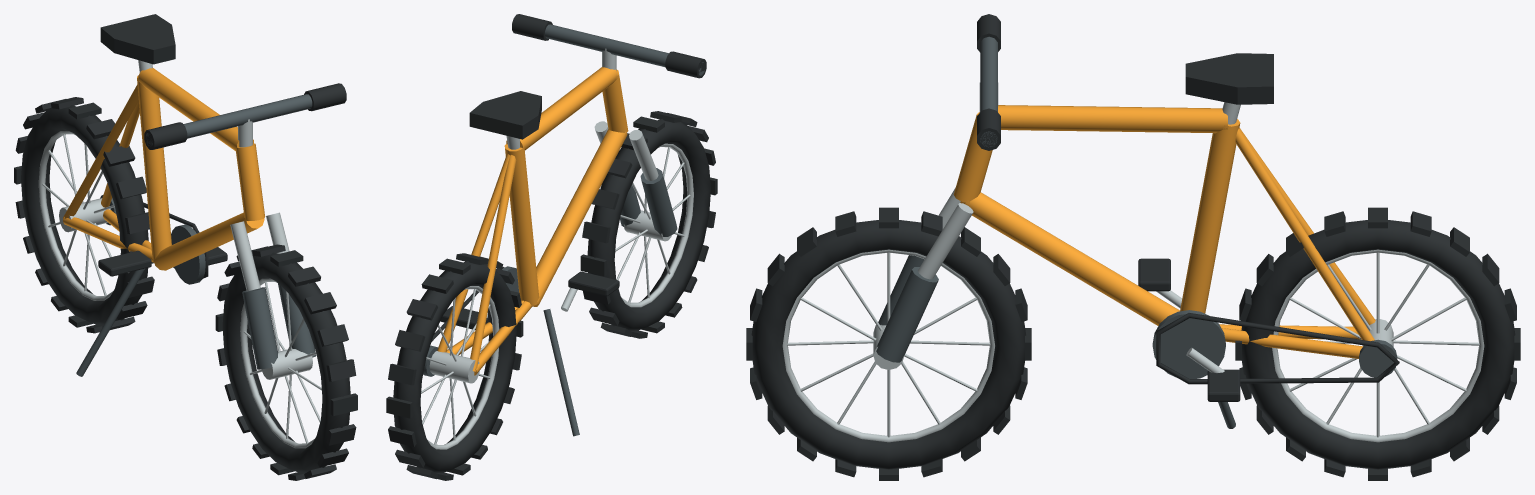
Rendered from bicycle_mountain.glb.
The picture shows the model from 3 angles, left to right: view 1: azimuth 30°, elevation 25°; view 2: azimuth 150°, elevation 25°; view 3: azimuth 270°, elevation 25°; orthographic projection. The views are drawn at different scales.
Parts seen in each view (by area): view 1: Mountain_Bicycle_Front_Tire, Mountain_Bicycle_Rear_Tire, Mountain_Bicycle_Seat_Tube, Mountain_Bicycle_Saddle, Mountain_Bicycle_Top_Tube, Mountain_Bicycle_Wide_Handlebar, Mountain_Bicycle_Down_Tube, Mountain_Bicycle_Suspension_Lower_-1, Mountain_Bicycle_Head_Tube, Mountain_Bicycle_Rear_Rim, Mountain_Bicycle_Seat_Stay_-1, Mountain_Bicycle_Front_Rim (+25 smaller); view 2: Mountain_Bicycle_Rear_Tire, Mountain_Bicycle_Front_Tire, Mountain_Bicycle_Down_Tube, Mountain_Bicycle_Seat_Tube, Mountain_Bicycle_Saddle, Mountain_Bicycle_Top_Tube, Mountain_Bicycle_Seat_Stay_-1, Mountain_Bicycle_Wide_Handlebar, Mountain_Bicycle_Seat_Stay_1, Mountain_Bicycle_Suspension_Lower_-1, Mountain_Bicycle_Front_Rim, Mountain_Bicycle_Rear_Rim (+22 smaller); view 3: Mountain_Bicycle_Front_Tire, Mountain_Bicycle_Rear_Tire, Mountain_Bicycle_Top_Tube, Mountain_Bicycle_Down_Tube, Mountain_Bicycle_Seat_Tube, Mountain_Bicycle_Saddle, Mountain_Bicycle_Front_Rim, Mountain_Bicycle_Chainring, Mountain_Bicycle_Rear_Rim, Mountain_Bicycle_Chain, Mountain_Bicycle_Seat_Stay_1, Mountain_Bicycle_Suspension_Lower_1 (+9 smaller).
Part boxes in pixels (bbox=[...]): Mountain_Bicycle_Front_Tire: bbox=[222, 252, 350, 472]; Mountain_Bicycle_Rear_Tire: bbox=[21, 105, 148, 325]; Mountain_Bicycle_Seat_Tube: bbox=[137, 76, 171, 262]; Mountain_Bicycle_Saddle: bbox=[100, 14, 175, 64]; Mountain_Bicycle_Top_Tube: bbox=[138, 68, 253, 151]; Mountain_Bicycle_Wide_Handlebar: bbox=[146, 94, 312, 146]; Mountain_Bicycle_Down_Tube: bbox=[153, 212, 264, 270]; Mountain_Bicycle_Suspension_Lower_-1: bbox=[242, 287, 278, 369]; Mountain_Bicycle_Head_Tube: bbox=[235, 143, 265, 220]; Mountain_Bicycle_Rear_Rim: bbox=[38, 131, 114, 300]; Mountain_Bicycle_Seat_Stay_-1: bbox=[63, 85, 138, 218]; Mountain_Bicycle_Front_Rim: bbox=[240, 278, 315, 448]; Mountain_Bicycle_Rear_Tire: bbox=[393, 261, 516, 473]; Mountain_Bicycle_Front_Tire: bbox=[587, 119, 710, 330]; Mountain_Bicycle_Down_Tube: bbox=[532, 129, 627, 306]; Mountain_Bicycle_Seat_Tube: bbox=[504, 144, 539, 305]; Mountain_Bicycle_Saddle: bbox=[469, 91, 541, 139]; Mountain_Bicycle_Top_Tube: bbox=[506, 67, 617, 150]; Mountain_Bicycle_Seat_Stay_-1: bbox=[470, 155, 516, 371]; Mountain_Bicycle_Wide_Handlebar: bbox=[545, 24, 704, 75]; Mountain_Bicycle_Seat_Stay_1: bbox=[437, 154, 509, 352]; Mountain_Bicycle_Suspension_Lower_-1: bbox=[640, 168, 677, 236]; Mountain_Bicycle_Front_Rim: bbox=[622, 143, 693, 307]; Mountain_Bicycle_Rear_Rim: bbox=[426, 286, 499, 449]; Mountain_Bicycle_Front_Tire: bbox=[751, 220, 1025, 469]; Mountain_Bicycle_Rear_Tire: bbox=[1241, 220, 1515, 469]; Mountain_Bicycle_Top_Tube: bbox=[998, 105, 1227, 133]; Mountain_Bicycle_Down_Tube: bbox=[960, 192, 1179, 325]; Mountain_Bicycle_Seat_Tube: bbox=[1180, 119, 1240, 313]; Mountain_Bicycle_Saddle: bbox=[1185, 53, 1273, 104]; Mountain_Bicycle_Front_Rim: bbox=[782, 249, 994, 442]; Mountain_Bicycle_Chainring: bbox=[1152, 310, 1225, 378]; Mountain_Bicycle_Rear_Rim: bbox=[1272, 249, 1484, 442]; Mountain_Bicycle_Chain: bbox=[1156, 313, 1399, 384]; Mountain_Bicycle_Seat_Stay_1: bbox=[1235, 128, 1374, 341]; Mountain_Bicycle_Suspension_Lower_1: bbox=[876, 267, 938, 362].
Bounding box in the file's own units: 0.7 × 1.16 × 2.01.
